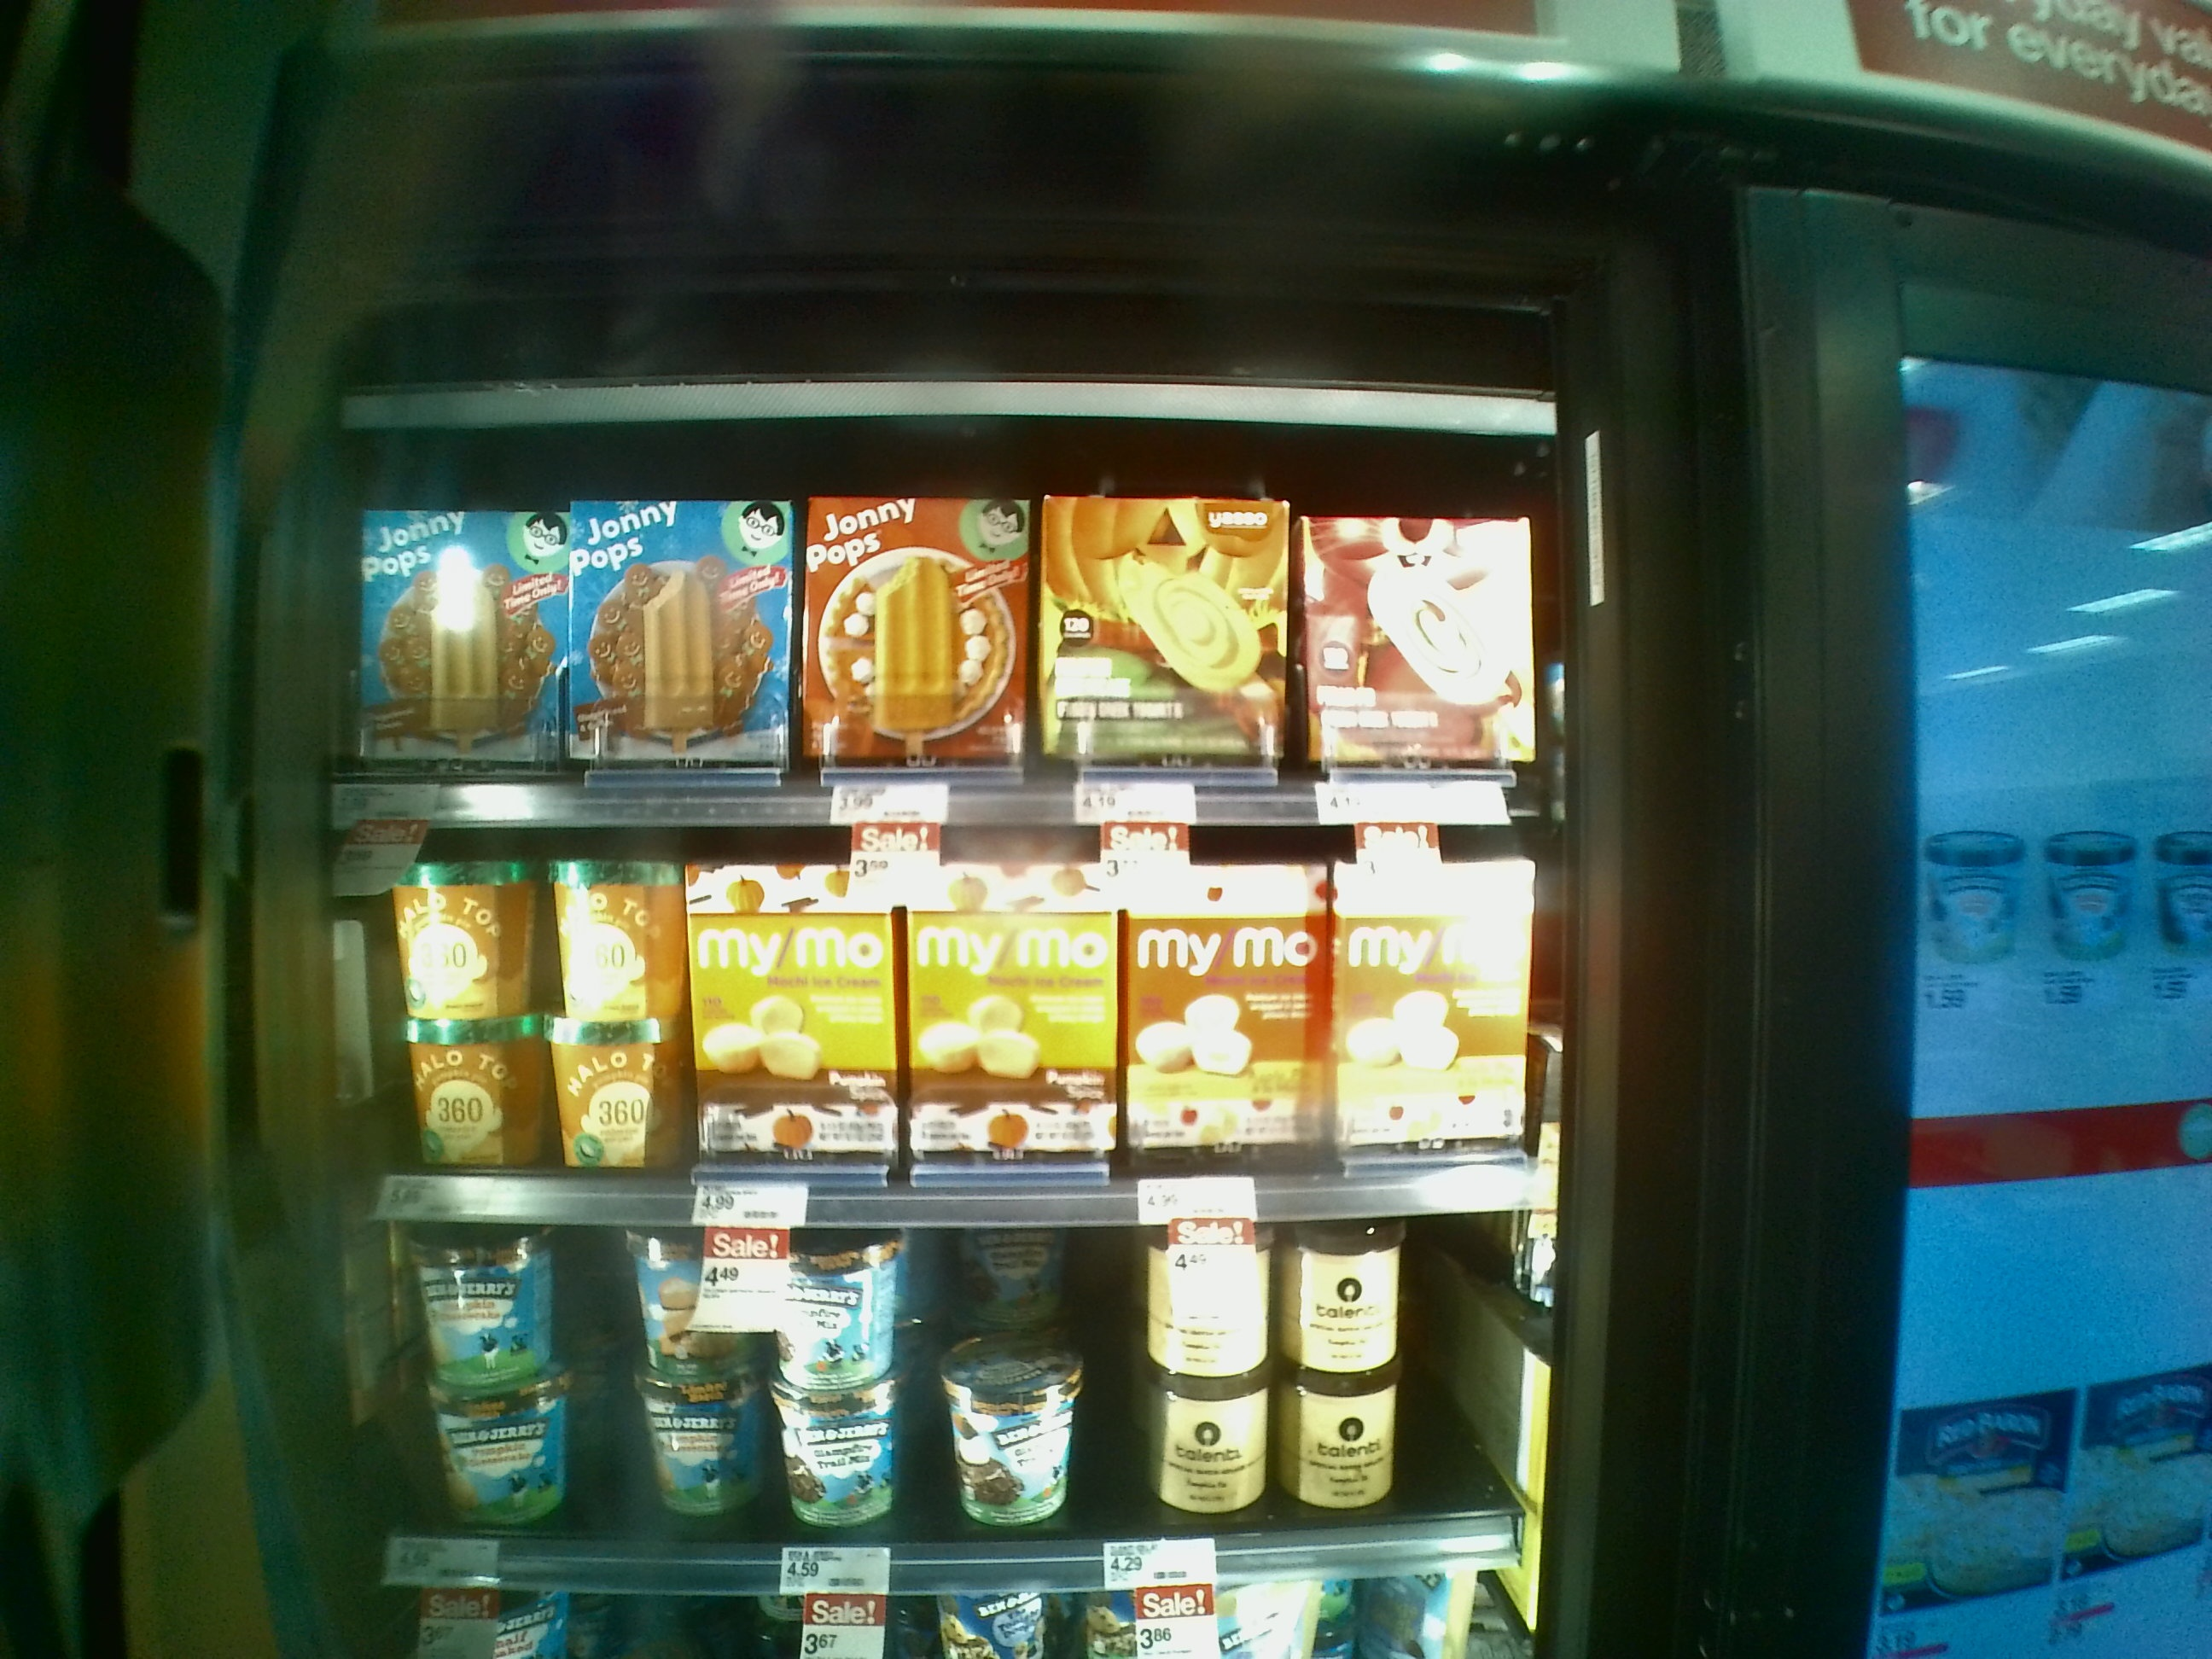shelf: (301, 781, 1575, 1218), (319, 385, 1571, 828), (308, 1202, 1548, 1572)
